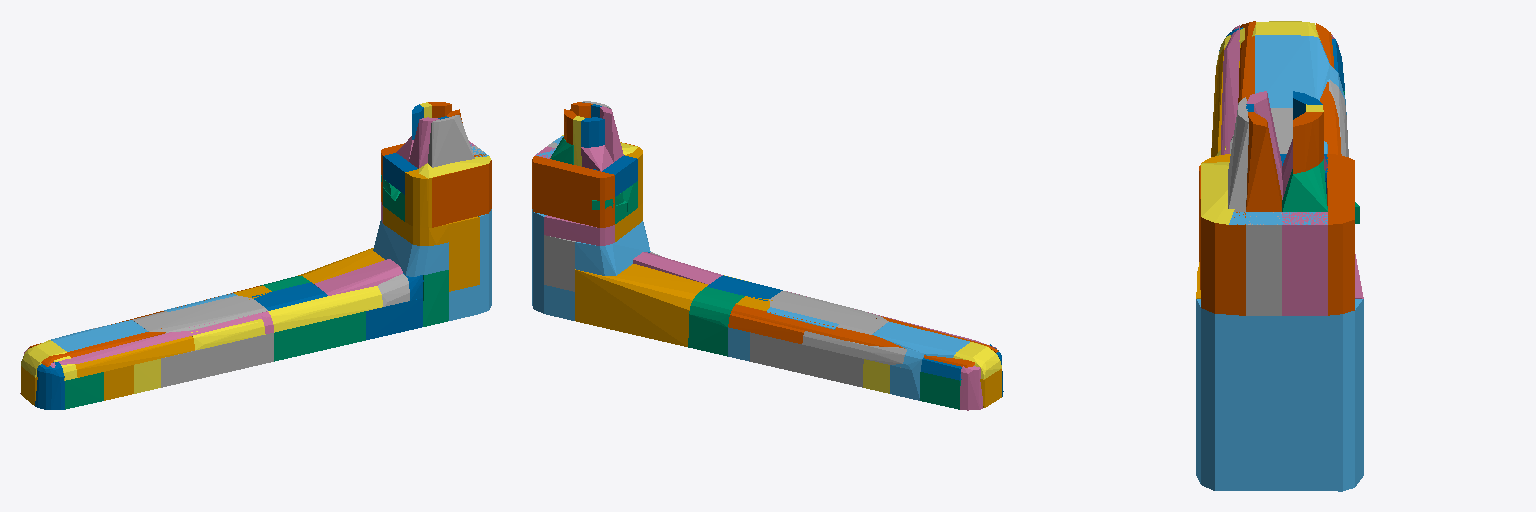
--- Render facts (derived) ---
The picture shows the robot from 3 angles, left to right: view 1: azimuth 30°, elevation 25°; view 2: azimuth 150°, elevation 25°; view 3: azimuth 270°, elevation 25°; orthographic projection.
Robot: root — 64 links, 63 joints (63 fixed); root link link_handle~handle9_convex_piece_0; default pose: all joints at 0.
Links seen in each view (by area): view 1: link_handle~handle9_convex_piece_63, link_handle~handle9_convex_piece_21, link_handle~handle9_convex_piece_58, link_handle~handle9_convex_piece_35, link_handle~handle9_convex_piece_47, link_handle~handle9_convex_piece_49, link_handle~handle9_convex_piece_8, link_handle~handle9_convex_piece_55, link_handle~handle9_convex_piece_48, link_handle~handle9_convex_piece_44, link_handle~handle9_convex_piece_46, link_handle~handle9_convex_piece_38 (+19 smaller); view 2: link_handle~handle9_convex_piece_56, link_handle~handle9_convex_piece_45, link_handle~handle9_convex_piece_63, link_handle~handle9_convex_piece_34, link_handle~handle9_convex_piece_49, link_handle~handle9_convex_piece_47, link_handle~handle9_convex_piece_61, link_handle~handle9_convex_piece_41, link_handle~handle9_convex_piece_7, link_handle~handle9_convex_piece_22, link_handle~handle9_convex_piece_57, link_handle~handle9_convex_piece_25 (+17 smaller); view 3: link_handle~handle9_convex_piece_25, link_handle~handle9_convex_piece_6, link_handle~handle9_convex_piece_41, link_handle~handle9_convex_piece_21, link_handle~handle9_convex_piece_45, link_handle~handle9_convex_piece_15, link_handle~handle9_convex_piece_53, link_handle~handle9_convex_piece_55, link_handle~handle9_convex_piece_26, link_handle~handle9_convex_piece_29, link_handle~handle9_convex_piece_38, link_handle~handle9_convex_piece_43 (+7 smaller).
Boxes of the visible links, bbox=[...] form: link_handle~handle9_convex_piece_63: bbox=[161, 333, 273, 387]; link_handle~handle9_convex_piece_21: bbox=[432, 154, 491, 227]; link_handle~handle9_convex_piece_58: bbox=[274, 311, 365, 361]; link_handle~handle9_convex_piece_35: bbox=[268, 286, 382, 332]; link_handle~handle9_convex_piece_47: bbox=[134, 295, 267, 333]; link_handle~handle9_convex_piece_49: bbox=[373, 220, 448, 276]; link_handle~handle9_convex_piece_8: bbox=[449, 216, 479, 291]; link_handle~handle9_convex_piece_55: bbox=[428, 115, 474, 167]; link_handle~handle9_convex_piece_48: bbox=[75, 336, 194, 377]; link_handle~handle9_convex_piece_44: bbox=[366, 298, 422, 339]; link_handle~handle9_convex_piece_46: bbox=[314, 259, 402, 295]; link_handle~handle9_convex_piece_38: bbox=[50, 313, 261, 367]; link_handle~handle9_convex_piece_56: bbox=[575, 264, 707, 346]; link_handle~handle9_convex_piece_45: bbox=[532, 156, 614, 227]; link_handle~handle9_convex_piece_63: bbox=[750, 332, 863, 387]; link_handle~handle9_convex_piece_34: bbox=[688, 287, 744, 356]; link_handle~handle9_convex_piece_49: bbox=[575, 221, 650, 275]; link_handle~handle9_convex_piece_47: bbox=[769, 291, 888, 332]; link_handle~handle9_convex_piece_61: bbox=[731, 304, 974, 367]; link_handle~handle9_convex_piece_41: bbox=[872, 322, 969, 357]; link_handle~handle9_convex_piece_7: bbox=[544, 235, 575, 291]; link_handle~handle9_convex_piece_22: bbox=[544, 215, 614, 245]; link_handle~handle9_convex_piece_57: bbox=[890, 348, 924, 400]; link_handle~handle9_convex_piece_25: bbox=[532, 209, 546, 313]; link_handle~handle9_convex_piece_25: bbox=[1196, 299, 1363, 491]; link_handle~handle9_convex_piece_6: bbox=[1282, 212, 1327, 315]; link_handle~handle9_convex_piece_41: bbox=[1255, 35, 1329, 107]; link_handle~handle9_convex_piece_21: bbox=[1199, 166, 1245, 315]; link_handle~handle9_convex_piece_45: bbox=[1327, 154, 1354, 315]; link_handle~handle9_convex_piece_15: bbox=[1246, 212, 1281, 315]; link_handle~handle9_convex_piece_53: bbox=[1246, 112, 1281, 211]; link_handle~handle9_convex_piece_55: bbox=[1228, 97, 1248, 211]; link_handle~handle9_convex_piece_26: bbox=[1282, 159, 1327, 211]; link_handle~handle9_convex_piece_29: bbox=[1293, 112, 1323, 173]; link_handle~handle9_convex_piece_38: bbox=[1221, 25, 1239, 154]; link_handle~handle9_convex_piece_43: bbox=[1201, 162, 1234, 224].
Bounding box of the posed robot: 0.1277 × 0.0227 × 0.052 m (x, y, z).
64 mesh visuals loaded from 64 distinct referenced files (64 OBJ).

robot.urdf — root:
<robot name="root">
  <link name="link_handle~handle9_convex_piece_0">
    <inertial>
      <origin xyz="0 0 0" rpy="0 0 0"/>
      <mass value="9.66E-04"/>
      <inertia ixx="1.10E-07" ixy="-2.01E-07" ixz="-5.53E-07" iyy="3.87E-06" iyz="-3.13E-08" izz="3.80E-06"/>
    </inertial>
    <visual>
      <origin xyz="0 0 0" rpy="0 0 0"/>
      <geometry>
        <mesh filename="handle~handle9_convex_piece_0.obj" scale="1.0000E+00 1.0000E+00 1.0000E+00"/>
      </geometry>
      <material name=""/>
    </visual>
    <collision>
      <origin xyz="0 0 0" rpy="0 0 0"/>
      <geometry>
        <mesh filename="handle~handle9_convex_piece_0.obj" scale="1.0000E+00 1.0000E+00 1.0000E+00"/>
      </geometry>
    </collision>
  </link>
  <link name="link_handle~handle9_convex_piece_1">
    <inertial>
      <origin xyz="0 0 0" rpy="0 0 0"/>
      <mass value="5.49E-04"/>
      <inertia ixx="7.18E-08" ixy="4.76E-08" ixz="-7.96E-08" iyy="1.89E-07" iyz="2.88E-08" izz="1.57E-07"/>
    </inertial>
    <visual>
      <origin xyz="0 0 0" rpy="0 0 0"/>
      <geometry>
        <mesh filename="handle~handle9_convex_piece_1.obj" scale="1.0000E+00 1.0000E+00 1.0000E+00"/>
      </geometry>
      <material name=""/>
    </visual>
    <collision>
      <origin xyz="0 0 0" rpy="0 0 0"/>
      <geometry>
        <mesh filename="handle~handle9_convex_piece_1.obj" scale="1.0000E+00 1.0000E+00 1.0000E+00"/>
      </geometry>
    </collision>
  </link>
  <joint name="link_handle~handle9_convex_piece_1_joint" type="fixed">
    <origin xyz="0 0 0" rpy="0 0 0"/>
    <parent link="link_handle~handle9_convex_piece_0"/>
    <child link="link_handle~handle9_convex_piece_1"/>
  </joint>
  <link name="link_handle~handle9_convex_piece_2">
    <inertial>
      <origin xyz="0 0 0" rpy="0 0 0"/>
      <mass value="1.30E-03"/>
      <inertia ixx="1.38E-07" ixy="1.82E-07" ixz="2.47E-07" iyy="1.01E-06" iyz="-4.94E-08" izz="9.71E-07"/>
    </inertial>
    <visual>
      <origin xyz="0 0 0" rpy="0 0 0"/>
      <geometry>
        <mesh filename="handle~handle9_convex_piece_2.obj" scale="1.0000E+00 1.0000E+00 1.0000E+00"/>
      </geometry>
      <material name=""/>
    </visual>
    <collision>
      <origin xyz="0 0 0" rpy="0 0 0"/>
      <geometry>
        <mesh filename="handle~handle9_convex_piece_2.obj" scale="1.0000E+00 1.0000E+00 1.0000E+00"/>
      </geometry>
    </collision>
  </link>
  <joint name="link_handle~handle9_convex_piece_2_joint" type="fixed">
    <origin xyz="0 0 0" rpy="0 0 0"/>
    <parent link="link_handle~handle9_convex_piece_1"/>
    <child link="link_handle~handle9_convex_piece_2"/>
  </joint>
  <link name="link_handle~handle9_convex_piece_3">
    <inertial>
      <origin xyz="0 0 0" rpy="0 0 0"/>
      <mass value="1.32E-03"/>
      <inertia ixx="1.67E-07" ixy="3.59E-09" ixz="-6.91E-07" iyy="4.07E-06" iyz="3.07E-10" izz="3.97E-06"/>
    </inertial>
    <visual>
      <origin xyz="0 0 0" rpy="0 0 0"/>
      <geometry>
        <mesh filename="handle~handle9_convex_piece_3.obj" scale="1.0000E+00 1.0000E+00 1.0000E+00"/>
      </geometry>
      <material name=""/>
    </visual>
    <collision>
      <origin xyz="0 0 0" rpy="0 0 0"/>
      <geometry>
        <mesh filename="handle~handle9_convex_piece_3.obj" scale="1.0000E+00 1.0000E+00 1.0000E+00"/>
      </geometry>
    </collision>
  </link>
  <joint name="link_handle~handle9_convex_piece_3_joint" type="fixed">
    <origin xyz="0 0 0" rpy="0 0 0"/>
    <parent link="link_handle~handle9_convex_piece_2"/>
    <child link="link_handle~handle9_convex_piece_3"/>
  </joint>
  <link name="link_handle~handle9_convex_piece_4">
    <inertial>
      <origin xyz="0 0 0" rpy="0 0 0"/>
      <mass value="1.26E-04"/>
      <inertia ixx="9.51E-09" ixy="2.07E-08" ixz="8.66E-09" iyy="5.88E-08" iyz="-3.23E-09" izz="6.50E-08"/>
    </inertial>
    <visual>
      <origin xyz="0 0 0" rpy="0 0 0"/>
      <geometry>
        <mesh filename="handle~handle9_convex_piece_4.obj" scale="1.0000E+00 1.0000E+00 1.0000E+00"/>
      </geometry>
      <material name=""/>
    </visual>
    <collision>
      <origin xyz="0 0 0" rpy="0 0 0"/>
      <geometry>
        <mesh filename="handle~handle9_convex_piece_4.obj" scale="1.0000E+00 1.0000E+00 1.0000E+00"/>
      </geometry>
    </collision>
  </link>
  <joint name="link_handle~handle9_convex_piece_4_joint" type="fixed">
    <origin xyz="0 0 0" rpy="0 0 0"/>
    <parent link="link_handle~handle9_convex_piece_3"/>
    <child link="link_handle~handle9_convex_piece_4"/>
  </joint>
  <link name="link_handle~handle9_convex_piece_5">
    <inertial>
      <origin xyz="0 0 0" rpy="0 0 0"/>
      <mass value="6.37E-05"/>
      <inertia ixx="4.13E-09" ixy="-8.38E-09" ixz="-1.26E-08" iyy="7.22E-08" iyz="-1.53E-09" izz="7.01E-08"/>
    </inertial>
    <visual>
      <origin xyz="0 0 0" rpy="0 0 0"/>
      <geometry>
        <mesh filename="handle~handle9_convex_piece_5.obj" scale="1.0000E+00 1.0000E+00 1.0000E+00"/>
      </geometry>
      <material name=""/>
    </visual>
    <collision>
      <origin xyz="0 0 0" rpy="0 0 0"/>
      <geometry>
        <mesh filename="handle~handle9_convex_piece_5.obj" scale="1.0000E+00 1.0000E+00 1.0000E+00"/>
      </geometry>
    </collision>
  </link>
  <joint name="link_handle~handle9_convex_piece_5_joint" type="fixed">
    <origin xyz="0 0 0" rpy="0 0 0"/>
    <parent link="link_handle~handle9_convex_piece_4"/>
    <child link="link_handle~handle9_convex_piece_5"/>
  </joint>
  <link name="link_handle~handle9_convex_piece_6">
    <inertial>
      <origin xyz="0 0 0" rpy="0 0 0"/>
      <mass value="4.26E-04"/>
      <inertia ixx="1.64E-07" ixy="-5.78E-08" ixz="-3.39E-07" iyy="9.14E-07" iyz="-2.60E-08" izz="7.62E-07"/>
    </inertial>
    <visual>
      <origin xyz="0 0 0" rpy="0 0 0"/>
      <geometry>
        <mesh filename="handle~handle9_convex_piece_6.obj" scale="1.0000E+00 1.0000E+00 1.0000E+00"/>
      </geometry>
      <material name=""/>
    </visual>
    <collision>
      <origin xyz="0 0 0" rpy="0 0 0"/>
      <geometry>
        <mesh filename="handle~handle9_convex_piece_6.obj" scale="1.0000E+00 1.0000E+00 1.0000E+00"/>
      </geometry>
    </collision>
  </link>
  <joint name="link_handle~handle9_convex_piece_6_joint" type="fixed">
    <origin xyz="0 0 0" rpy="0 0 0"/>
    <parent link="link_handle~handle9_convex_piece_5"/>
    <child link="link_handle~handle9_convex_piece_6"/>
  </joint>
  <link name="link_handle~handle9_convex_piece_7">
    <inertial>
      <origin xyz="0 0 0" rpy="0 0 0"/>
      <mass value="7.29E-04"/>
      <inertia ixx="6.05E-08" ixy="-2.02E-07" ixz="-1.78E-08" iyy="8.79E-07" iyz="-3.95E-09" izz="9.18E-07"/>
    </inertial>
    <visual>
      <origin xyz="0 0 0" rpy="0 0 0"/>
      <geometry>
        <mesh filename="handle~handle9_convex_piece_7.obj" scale="1.0000E+00 1.0000E+00 1.0000E+00"/>
      </geometry>
      <material name=""/>
    </visual>
    <collision>
      <origin xyz="0 0 0" rpy="0 0 0"/>
      <geometry>
        <mesh filename="handle~handle9_convex_piece_7.obj" scale="1.0000E+00 1.0000E+00 1.0000E+00"/>
      </geometry>
    </collision>
  </link>
  <joint name="link_handle~handle9_convex_piece_7_joint" type="fixed">
    <origin xyz="0 0 0" rpy="0 0 0"/>
    <parent link="link_handle~handle9_convex_piece_6"/>
    <child link="link_handle~handle9_convex_piece_7"/>
  </joint>
  <link name="link_handle~handle9_convex_piece_8">
    <inertial>
      <origin xyz="0 0 0" rpy="0 0 0"/>
      <mass value="1.00E-03"/>
      <inertia ixx="1.05E-07" ixy="2.76E-07" ixz="-1.09E-07" iyy="1.23E-06" iyz="2.51E-08" izz="1.26E-06"/>
    </inertial>
    <visual>
      <origin xyz="0 0 0" rpy="0 0 0"/>
      <geometry>
        <mesh filename="handle~handle9_convex_piece_8.obj" scale="1.0000E+00 1.0000E+00 1.0000E+00"/>
      </geometry>
      <material name=""/>
    </visual>
    <collision>
      <origin xyz="0 0 0" rpy="0 0 0"/>
      <geometry>
        <mesh filename="handle~handle9_convex_piece_8.obj" scale="1.0000E+00 1.0000E+00 1.0000E+00"/>
      </geometry>
    </collision>
  </link>
  <joint name="link_handle~handle9_convex_piece_8_joint" type="fixed">
    <origin xyz="0 0 0" rpy="0 0 0"/>
    <parent link="link_handle~handle9_convex_piece_7"/>
    <child link="link_handle~handle9_convex_piece_8"/>
  </joint>
  <link name="link_handle~handle9_convex_piece_9">
    <inertial>
      <origin xyz="0 0 0" rpy="0 0 0"/>
      <mass value="0.00E+00"/>
      <inertia ixx="5.80E-23" ixy="-0.00E+00" ixz="-1.16E-22" iyy="5.80E-23" iyz="-0.00E+00" izz="0.00E+00"/>
    </inertial>
    <visual>
      <origin xyz="0 0 0" rpy="0 0 0"/>
      <geometry>
        <mesh filename="handle~handle9_convex_piece_9.obj" scale="1.0000E+00 1.0000E+00 1.0000E+00"/>
      </geometry>
      <material name=""/>
    </visual>
    <collision>
      <origin xyz="0 0 0" rpy="0 0 0"/>
      <geometry>
        <mesh filename="handle~handle9_convex_piece_9.obj" scale="1.0000E+00 1.0000E+00 1.0000E+00"/>
      </geometry>
    </collision>
  </link>
  <joint name="link_handle~handle9_convex_piece_9_joint" type="fixed">
    <origin xyz="0 0 0" rpy="0 0 0"/>
    <parent link="link_handle~handle9_convex_piece_8"/>
    <child link="link_handle~handle9_convex_piece_9"/>
  </joint>
  <link name="link_handle~handle9_convex_piece_10">
    <inertial>
      <origin xyz="0 0 0" rpy="0 0 0"/>
      <mass value="7.95E-05"/>
      <inertia ixx="2.95E-08" ixy="-1.14E-08" ixz="-3.44E-08" iyy="7.14E-08" iyz="-8.72E-09" izz="4.84E-08"/>
    </inertial>
    <visual>
      <origin xyz="0 0 0" rpy="0 0 0"/>
      <geometry>
        <mesh filename="handle~handle9_convex_piece_10.obj" scale="1.0000E+00 1.0000E+00 1.0000E+00"/>
      </geometry>
      <material name=""/>
    </visual>
    <collision>
      <origin xyz="0 0 0" rpy="0 0 0"/>
      <geometry>
        <mesh filename="handle~handle9_convex_piece_10.obj" scale="1.0000E+00 1.0000E+00 1.0000E+00"/>
      </geometry>
    </collision>
  </link>
  <joint name="link_handle~handle9_convex_piece_10_joint" type="fixed">
    <origin xyz="0 0 0" rpy="0 0 0"/>
    <parent link="link_handle~handle9_convex_piece_9"/>
    <child link="link_handle~handle9_convex_piece_10"/>
  </joint>
  <link name="link_handle~handle9_convex_piece_11">
    <inertial>
      <origin xyz="0 0 0" rpy="0 0 0"/>
      <mass value="1.10E-04"/>
      <inertia ixx="8.50E-08" ixy="-1.58E-08" ixz="-9.57E-08" iyy="2.02E-07" iyz="-1.29E-08" izz="1.21E-07"/>
    </inertial>
    <visual>
      <origin xyz="0 0 0" rpy="0 0 0"/>
      <geometry>
        <mesh filename="handle~handle9_convex_piece_11.obj" scale="1.0000E+00 1.0000E+00 1.0000E+00"/>
      </geometry>
      <material name=""/>
    </visual>
    <collision>
      <origin xyz="0 0 0" rpy="0 0 0"/>
      <geometry>
        <mesh filename="handle~handle9_convex_piece_11.obj" scale="1.0000E+00 1.0000E+00 1.0000E+00"/>
      </geometry>
    </collision>
  </link>
  <joint name="link_handle~handle9_convex_piece_11_joint" type="fixed">
    <origin xyz="0 0 0" rpy="0 0 0"/>
    <parent link="link_handle~handle9_convex_piece_10"/>
    <child link="link_handle~handle9_convex_piece_11"/>
  </joint>
  <link name="link_handle~handle9_convex_piece_12">
    <inertial>
      <origin xyz="0 0 0" rpy="0 0 0"/>
      <mass value="5.61E-05"/>
      <inertia ixx="4.03E-09" ixy="2.89E-08" ixz="-1.80E-08" iyy="2.95E-07" iyz="1.80E-09" izz="2.97E-07"/>
    </inertial>
    <visual>
      <origin xyz="0 0 0" rpy="0 0 0"/>
      <geometry>
        <mesh filename="handle~handle9_convex_piece_12.obj" scale="1.0000E+00 1.0000E+00 1.0000E+00"/>
      </geometry>
      <material name=""/>
    </visual>
    <collision>
      <origin xyz="0 0 0" rpy="0 0 0"/>
      <geometry>
        <mesh filename="handle~handle9_convex_piece_12.obj" scale="1.0000E+00 1.0000E+00 1.0000E+00"/>
      </geometry>
    </collision>
  </link>
  <joint name="link_handle~handle9_convex_piece_12_joint" type="fixed">
    <origin xyz="0 0 0" rpy="0 0 0"/>
    <parent link="link_handle~handle9_convex_piece_11"/>
    <child link="link_handle~handle9_convex_piece_12"/>
  </joint>
  <link name="link_handle~handle9_convex_piece_13">
    <inertial>
      <origin xyz="0 0 0" rpy="0 0 0"/>
      <mass value="1.04E-04"/>
      <inertia ixx="9.45E-09" ixy="1.99E-08" ixz="-1.05E-08" iyy="6.02E-08" iyz="3.88E-09" izz="6.54E-08"/>
    </inertial>
    <visual>
      <origin xyz="0 0 0" rpy="0 0 0"/>
      <geometry>
        <mesh filename="handle~handle9_convex_piece_13.obj" scale="1.0000E+00 1.0000E+00 1.0000E+00"/>
      </geometry>
      <material name=""/>
    </visual>
    <collision>
      <origin xyz="0 0 0" rpy="0 0 0"/>
      <geometry>
        <mesh filename="handle~handle9_convex_piece_13.obj" scale="1.0000E+00 1.0000E+00 1.0000E+00"/>
      </geometry>
    </collision>
  </link>
  <joint name="link_handle~handle9_convex_piece_13_joint" type="fixed">
    <origin xyz="0 0 0" rpy="0 0 0"/>
    <parent link="link_handle~handle9_convex_piece_12"/>
    <child link="link_handle~handle9_convex_piece_13"/>
  </joint>
  <link name="link_handle~handle9_convex_piece_14">
    <inertial>
      <origin xyz="0 0 0" rpy="0 0 0"/>
      <mass value="1.01E-04"/>
      <inertia ixx="1.33E-08" ixy="5.02E-08" ixz="-7.29E-08" iyy="6.50E-07" iyz="5.75E-09" izz="6.45E-07"/>
    </inertial>
    <visual>
      <origin xyz="0 0 0" rpy="0 0 0"/>
      <geometry>
        <mesh filename="handle~handle9_convex_piece_14.obj" scale="1.0000E+00 1.0000E+00 1.0000E+00"/>
      </geometry>
      <material name=""/>
    </visual>
    <collision>
      <origin xyz="0 0 0" rpy="0 0 0"/>
      <geometry>
        <mesh filename="handle~handle9_convex_piece_14.obj" scale="1.0000E+00 1.0000E+00 1.0000E+00"/>
      </geometry>
    </collision>
  </link>
  <joint name="link_handle~handle9_convex_piece_14_joint" type="fixed">
    <origin xyz="0 0 0" rpy="0 0 0"/>
    <parent link="link_handle~handle9_convex_piece_13"/>
    <child link="link_handle~handle9_convex_piece_14"/>
  </joint>
  <link name="link_handle~handle9_convex_piece_15">
    <inertial>
      <origin xyz="0 0 0" rpy="0 0 0"/>
      <mass value="6.59E-04"/>
      <inertia ixx="2.51E-07" ixy="5.80E-08" ixz="-4.97E-07" iyy="1.30E-06" iyz="2.77E-08" izz="1.06E-06"/>
    </inertial>
    <visual>
      <origin xyz="0 0 0" rpy="0 0 0"/>
      <geometry>
        <mesh filename="handle~handle9_convex_piece_15.obj" scale="1.0000E+00 1.0000E+00 1.0000E+00"/>
      </geometry>
      <material name=""/>
    </visual>
    <collision>
      <origin xyz="0 0 0" rpy="0 0 0"/>
      <geometry>
        <mesh filename="handle~handle9_convex_piece_15.obj" scale="1.0000E+00 1.0000E+00 1.0000E+00"/>
      </geometry>
    </collision>
  </link>
  <joint name="link_handle~handle9_convex_piece_15_joint" type="fixed">
    <origin xyz="0 0 0" rpy="0 0 0"/>
    <parent link="link_handle~handle9_convex_piece_14"/>
    <child link="link_handle~handle9_convex_piece_15"/>
  </joint>
  <link name="link_handle~handle9_convex_piece_16">
    <inertial>
      <origin xyz="0 0 0" rpy="0 0 0"/>
      <mass value="3.86E-04"/>
      <inertia ixx="4.54E-08" ixy="2.09E-08" ixz="-3.15E-07" iyy="2.54E-06" iyz="2.73E-09" izz="2.50E-06"/>
    </inertial>
    <visual>
      <origin xyz="0 0 0" rpy="0 0 0"/>
      <geometry>
        <mesh filename="handle~handle9_convex_piece_16.obj" scale="1.0000E+00 1.0000E+00 1.0000E+00"/>
      </geometry>
      <material name=""/>
    </visual>
    <collision>
      <origin xyz="0 0 0" rpy="0 0 0"/>
      <geometry>
        <mesh filename="handle~handle9_convex_piece_16.obj" scale="1.0000E+00 1.0000E+00 1.0000E+00"/>
      </geometry>
    </collision>
  </link>
  <joint name="link_handle~handle9_convex_piece_16_joint" type="fixed">
    <origin xyz="0 0 0" rpy="0 0 0"/>
    <parent link="link_handle~handle9_convex_piece_15"/>
    <child link="link_handle~handle9_convex_piece_16"/>
  </joint>
  <link name="link_handle~handle9_convex_piece_17">
    <inertial>
      <origin xyz="0 0 0" rpy="0 0 0"/>
      <mass value="1.62E-03"/>
      <inertia ixx="2.50E-07" ixy="-6.63E-10" ixz="5.82E-07" iyy="2.15E-06" iyz="1.89E-10" izz="2.04E-06"/>
    </inertial>
    <visual>
      <origin xyz="0 0 0" rpy="0 0 0"/>
      <geometry>
        <mesh filename="handle~handle9_convex_piece_17.obj" scale="1.0000E+00 1.0000E+00 1.0000E+00"/>
      </geometry>
      <material name=""/>
    </visual>
    <collision>
      <origin xyz="0 0 0" rpy="0 0 0"/>
      <geometry>
        <mesh filename="handle~handle9_convex_piece_17.obj" scale="1.0000E+00 1.0000E+00 1.0000E+00"/>
      </geometry>
    </collision>
  </link>
  <joint name="link_handle~handle9_convex_piece_17_joint" type="fixed">
    <origin xyz="0 0 0" rpy="0 0 0"/>
    <parent link="link_handle~handle9_convex_piece_16"/>
    <child link="link_handle~handle9_convex_piece_17"/>
  </joint>
  <link name="link_handle~handle9_convex_piece_18">
    <inertial>
      <origin xyz="0 0 0" rpy="0 0 0"/>
      <mass value="1.58E-03"/>
      <inertia ixx="2.16E-07" ixy="1.84E-09" ixz="-1.18E-06" iyy="8.41E-06" iyz="1.84E-10" izz="8.28E-06"/>
    </inertial>
    <visual>
      <origin xyz="0 0 0" rpy="0 0 0"/>
      <geometry>
        <mesh filename="handle~handle9_convex_piece_18.obj" scale="1.0000E+00 1.0000E+00 1.0000E+00"/>
      </geometry>
      <material name=""/>
    </visual>
    <collision>
      <origin xyz="0 0 0" rpy="0 0 0"/>
      <geometry>
        <mesh filename="handle~handle9_convex_piece_18.obj" scale="1.0000E+00 1.0000E+00 1.0000E+00"/>
      </geometry>
    </collision>
  </link>
  <joint name="link_handle~handle9_convex_piece_18_joint" type="fixed">
    <origin xyz="0 0 0" rpy="0 0 0"/>
    <parent link="link_handle~handle9_convex_piece_17"/>
    <child link="link_handle~handle9_convex_piece_18"/>
  </joint>
  <link name="link_handle~handle9_convex_piece_19">
    <inertial>
      <origin xyz="0 0 0" rpy="0 0 0"/>
      <mass value="3.68E-04"/>
      <inertia ixx="1.62E-08" ixy="-6.77E-12" ixz="-4.61E-08" iyy="5.04E-07" iyz="-6.37E-13" izz="4.93E-07"/>
    </inertial>
    <visual>
      <origin xyz="0 0 0" rpy="0 0 0"/>
      <geometry>
        <mesh filename="handle~handle9_convex_piece_19.obj" scale="1.0000E+00 1.0000E+00 1.0000E+00"/>
      </geometry>
      <material name=""/>
    </visual>
    <collision>
      <origin xyz="0 0 0" rpy="0 0 0"/>
      <geometry>
        <mesh filename="handle~handle9_convex_piece_19.obj" scale="1.0000E+00 1.0000E+00 1.0000E+00"/>
      </geometry>
    </collision>
  </link>
  <joint name="link_handle~handle9_convex_piece_19_joint" type="fixed">
    <origin xyz="0 0 0" rpy="0 0 0"/>
    <parent link="link_handle~handle9_convex_piece_18"/>
    <child link="link_handle~handle9_convex_piece_19"/>
  </joint>
  <link name="link_handle~handle9_convex_piece_20">
    <inertial>
      <origin xyz="0 0 0" rpy="0 0 0"/>
      <mass value="1.97E-04"/>
      <inertia ixx="2.42E-08" ixy="-8.39E-08" ixz="-1.43E-07" iyy="1.27E-06" iyz="-9.59E-09" izz="1.26E-06"/>
    </inertial>
    <visual>
      <origin xyz="0 0 0" rpy="0 0 0"/>
      <geometry>
        <mesh filename="handle~handle9_convex_piece_20.obj" scale="1.0000E+00 1.0000E+00 1.0000E+00"/>
      </geometry>
      <material name=""/>
    </visual>
    <collision>
      <origin xyz="0 0 0" rpy="0 0 0"/>
      <geometry>
        <mesh filename="handle~handle9_convex_piece_20.obj" scale="1.0000E+00 1.0000E+00 1.0000E+00"/>
      </geometry>
    </collision>
  </link>
  <joint name="link_handle~handle9_convex_piece_20_joint" type="fixed">
    <origin xyz="0 0 0" rpy="0 0 0"/>
    <parent link="link_handle~handle9_convex_piece_19"/>
    <child link="link_handle~handle9_convex_piece_20"/>
  </joint>
  <link name="link_handle~handle9_convex_piece_21">
    <inertial>
      <origin xyz="0 0 0" rpy="0 0 0"/>
      <mass value="1.69E-03"/>
      <inertia ixx="7.28E-07" ixy="4.37E-07" ixz="-1.09E-06" iyy="2.65E-06" iyz="2.41E-07" izz="2.13E-06"/>
    </inertial>
    <visual>
      <origin xyz="0 0 0" rpy="0 0 0"/>
      <geometry>
        <mesh filename="handle~handle9_convex_piece_21.obj" scale="1.0000E+00 1.0000E+00 1.0000E+00"/>
      </geometry>
      <material name=""/>
    </visual>
    <collision>
      <origin xyz="0 0 0" rpy="0 0 0"/>
      <geometry>
        <mesh filename="handle~handle9_convex_piece_21.obj" scale="1.0000E+00 1.0000E+00 1.0000E+00"/>
      </geometry>
    </collision>
  </link>
  <joint name="link_handle~handle9_convex_piece_21_joint" type="fixed">
    <origin xyz="0 0 0" rpy="0 0 0"/>
    <parent link="link_handle~handle9_convex_piece_20"/>
    <child link="link_handle~handle9_convex_piece_21"/>
  </joint>
  <link name="link_handle~handle9_convex_piece_22">
    <inertial>
      <origin xyz="0 0 0" rpy="0 0 0"/>
      <mass value="4.37E-04"/>
      <inertia ixx="7.14E-08" ixy="-1.10E-07" ixz="-1.32E-07" iyy="4.75E-07" iyz="-3.41E-08" izz="4.63E-07"/>
    </inertial>
    <visual>
      <origin xyz="0 0 0" rpy="0 0 0"/>
      <geometry>
        <mesh filename="handle~handle9_convex_piece_22.obj" scale="1.0000E+00 1.0000E+00 1.0000E+00"/>
      </geometry>
      <material name=""/>
    </visual>
    <collision>
      <origin xyz="0 0 0" rpy="0 0 0"/>
      <geometry>
        <mesh filename="handle~handle9_convex_piece_22.obj" scale="1.0000E+00 1.0000E+00 1.0000E+00"/>
      </geometry>
    </collision>
  </link>
  <joint name="link_handle~handle9_convex_piece_22_joint" type="fixed">
    <origin xyz="0 0 0" rpy="0 0 0"/>
    <parent link="link_handle~handle9_convex_piece_21"/>
    <child link="link_handle~handle9_convex_piece_22"/>
  </joint>
  <link name="link_handle~handle9_convex_piece_23">
    <inertial>
      <origin xyz="0 0 0" rpy="0 0 0"/>
      <mass value="5.21E-05"/>
      <inertia ixx="4.34E-09" ixy="2.30E-08" ixz="-1.31E-08" iyy="1.66E-07" iyz="1.86E-09" izz="1.68E-07"/>
    </inertial>
    <visual>
      <origin xyz="0 0 0" rpy="0 0 0"/>
      <geometry>
        <mesh filename="handle~handle9_convex_piece_23.obj" scale="1.0000E+00 1.0000E+00 1.0000E+00"/>
      </geometry>
      <material name=""/>
    </visual>
    <collision>
      <origin xyz="0 0 0" rpy="0 0 0"/>
      <geometry>
        <mesh filename="handle~handle9_convex_piece_23.obj" scale="1.0000E+00 1.0000E+00 1.0000E+00"/>
      </geometry>
    </collision>
  </link>
  <joint name="link_handle~handle9_convex_piece_23_joint" type="fixed">
    <origin xyz="0 0 0" rpy="0 0 0"/>
    <parent link="link_handle~handle9_convex_piece_22"/>
    <child link="link_handle~handle9_convex_piece_23"/>
  </joint>
  <link name="link_handle~handle9_convex_piece_24">
    <inertial>
      <origin xyz="0 0 0" rpy="0 0 0"/>
      <mass value="2.36E-04"/>
      <inertia ixx="1.08E-07" ixy="4.22E-08" ixz="-1.10E-07" iyy="2.28E-07" iyz="3.44E-08" izz="1.47E-07"/>
    </inertial>
    <visual>
      <origin xyz="0 0 0" rpy="0 0 0"/>
      <geometry>
        <mesh filename="handle~handle9_convex_piece_24.obj" scale="1.0000E+00 1.0000E+00 1.0000E+00"/>
      </geometry>
      <material name=""/>
    </visual>
    <collision>
      <origin xyz="0 0 0" rpy="0 0 0"/>
      <geometry>
        <mesh filename="handle~handle9_convex_piece_24.obj" scale="1.0000E+00 1.0000E+00 1.0000E+00"/>
      </geometry>
    </collision>
  </link>
  <joint name="link_handle~handle9_convex_piece_24_joint" type="fixed">
    <origin xyz="0 0 0" rpy="0 0 0"/>
    <parent link="link_handle~handle9_convex_piece_23"/>
    <child link="link_handle~handle9_convex_piece_24"/>
  </joint>
  <link name="link_handle~handle9_convex_piece_25">
    <inertial>
      <origin xyz="0 0 0" rpy="0 0 0"/>
      <mass value="2.85E-03"/>
      <inertia ixx="2.75E-07" ixy="-2.97E-10" ixz="1.26E-07" iyy="5.06E-06" iyz="-3.70E-12" izz="5.00E-06"/>
    </inertial>
    <visual>
      <origin xyz="0 0 0" rpy="0 0 0"/>
      <geometry>
        <mesh filename="handle~handle9_convex_piece_25.obj" scale="1.0000E+00 1.0000E+00 1.0000E+00"/>
      </geometry>
      <material name=""/>
    </visual>
    <collision>
      <origin xyz="0 0 0" rpy="0 0 0"/>
      <geometry>
        <mesh filename="handle~handle9_convex_piece_25.obj" scale="1.0000E+00 1.0000E+00 1.0000E+00"/>
      </geometry>
    </collision>
  </link>
  <joint name="link_handle~handle9_convex_piece_25_joint" type="fixed">
    <origin xyz="0 0 0" rpy="0 0 0"/>
    <parent link="link_handle~handle9_convex_piece_24"/>
    <child link="link_handle~handle9_convex_piece_25"/>
  </joint>
  <link name="link_handle~handle9_convex_piece_26">
    <inertial>
      <origin xyz="0 0 0" rpy="0 0 0"/>
      <mass value="5.97E-04"/>
      <inertia ixx="2.83E-07" ixy="-8.32E-08" ixz="-4.70E-07" iyy="1.13E-06" iyz="-4.53E-08" izz="8.68E-07"/>
    </inertial>
    <visual>
      <origin xyz="0 0 0" rpy="0 0 0"/>
      <geometry>
        <mesh filename="handle~handle9_convex_piece_26.obj" scale="1.0000E+00 1.0000E+00 1.0000E+00"/>
      </geometry>
      <material name=""/>
    </visual>
    <collision>
      <origin xyz="0 0 0" rpy="0 0 0"/>
      <geometry>
        <mesh filename="handle~handle9_convex_piece_26.obj" scale="1.0000E+00 1.0000E+00 1.0000E+00"/>
      </geometry>
    </collision>
  </link>
  <joint name="link_handle~handle9_convex_piece_26_joint" type="fixed">
    <origin xyz="0 0 0" rpy="0 0 0"/>
    <parent link="link_handle~handle9_convex_piece_25"/>
    <child link="link_handle~handle9_convex_piece_26"/>
  </joint>
  <link name="link_handle~handle9_convex_piece_27">
    <inertial>
      <origin xyz="0 0 0" rpy="0 0 0"/>
      <mass value="9.42E-05"/>
      <inertia ixx="8.76E-09" ixy="-2.44E-08" ixz="-1.29E-08" iyy="9.31E-08" iyz="-3.61E-09" izz="9.79E-08"/>
    </inertial>
    <visual>
      <origin xyz="0 0 0" rpy="0 0 0"/>
      <geometry>
        <mesh filename="handle~handle9_convex_piece_27.obj" scale="1.0000E+00 1.0000E+00 1.0000E+00"/>
      </geometry>
      <material name=""/>
    </visual>
    <collision>
      <origin xyz="0 0 0" rpy="0 0 0"/>
      <geometry>
        <mesh filename="handle~handle9_convex_piece_27.obj" scale="1.0000E+00 1.0000E+00 1.0000E+00"/>
      </geometry>
    </collision>
  </link>
  <joint name="link_handle~handle9_convex_piece_27_joint" type="fixed">
    <origin xyz="0 0 0" rpy="0 0 0"/>
    <parent link="link_handle~handle9_convex_piece_26"/>
    <child link="link_handle~handle9_convex_piece_27"/>
  </joint>
  <link name="link_handle~handle9_convex_piece_28">
    <inertial>
      <origin xyz="0 0 0" rpy="0 0 0"/>
      <mass value="7.24E-05"/>
      <inertia ixx="8.57E-08" ixy="-7.64E-09" ixz="-7.39E-08" iyy="1.49E-07" iyz="-8.68E-09" izz="6.56E-08"/>
    </inertial>
    <visual>
      <origin xyz="0 0 0" rpy="0 0 0"/>
      <geometry>
        <mesh filename="handle~handle9_convex_piece_28.obj" scale="1.0000E+00 1.0000E+00 1.0000E+00"/>
      </geometry>
      <material name=""/>
    </visual>
    <collision>
      <origin xyz="0 0 0" rpy="0 0 0"/>
      <geometry>
        <mesh filename="handle~handle9_convex_piece_28.obj" scale="1.0000E+00 1.0000E+00 1.0000E+00"/>
      </geometry>
    </collision>
  </link>
  <joint name="link_handle~handle9_convex_piece_28_joint" type="fixed">
    <origin xyz="0 0 0" rpy="0 0 0"/>
    <parent link="link_handle~handle9_convex_piece_27"/>
    <child link="link_handle~handle9_convex_piece_28"/>
  </joint>
  <link name="link_handle~handle9_convex_piece_29">
    <inertial>
      <origin xyz="0 0 0" rpy="0 0 0"/>
      <mass value="8.22E-05"/>
      <inertia ixx="9.76E-08" ixy="-1.06E-08" ixz="-1.02E-07" iyy="2.04E-07" iyz="-1.01E-08" izz="1.09E-07"/>
    </inertial>
    <visual>
      <origin xyz="0 0 0" rpy="0 0 0"/>
      <geometry>
        <mesh filename="handle~handle9_convex_piece_29.obj" scale="1.0000E+00 1.0000E+00 1.0000E+00"/>
      </geometry>
      <material name=""/>
    </visual>
    <collision>
      <origin xyz="0 0 0" rpy="0 0 0"/>
      <geometry>
        <mesh filename="handle~handle9_convex_piece_29.obj" scale="1.0000E+00 1.0000E+00 1.0000E+00"/>
      </geometry>
    </collision>
  </link>
  <joint name="link_handle~handle9_convex_piece_29_joint" type="fixed">
    <origin xyz="0 0 0" rpy="0 0 0"/>
    <parent link="link_handle~handle9_convex_piece_28"/>
    <child link="link_handle~handle9_convex_piece_29"/>
  </joint>
  <link name="link_handle~handle9_convex_piece_30">
    <inertial>
      <origin xyz="0 0 0" rpy="0 0 0"/>
      <mass value="2.30E-05"/>
      <inertia ixx="1.69E-09" ixy="-3.50E-09" ixz="-1.66E-09" iyy="9.55E-09" iyz="-6.53E-10" izz="1.06E-08"/>
    </inertial>
    <visual>
      <origin xyz="0 0 0" rpy="0 0 0"/>
      <geometry>
        <mesh filename="handle~handle9_convex_piece_30.obj" scale="1.0000E+00 1.0000E+00 1.0000E+00"/>
      </geometry>
      <material name=""/>
    </visual>
    <collision>
      <origin xyz="0 0 0" rpy="0 0 0"/>
      <geometry>
        <mesh filename="handle~handle9_convex_piece_30.obj" scale="1.0000E+00 1.0000E+00 1.0000E+00"/>
      </geometry>
    </collision>
  </link>
  <joint name="link_handle~handle9_convex_piece_30_joint" type="fixed">
    <origin xyz="0 0 0" rpy="0 0 0"/>
    <parent link="link_handle~handle9_convex_piece_29"/>
    <child link="link_handle~handle9_convex_piece_30"/>
  </joint>
  <link name="link_handle~handle9_convex_piece_31">
    <inertial>
      <origin xyz="0 0 0" rpy="0 0 0"/>
      <mass value="6.12E-05"/>
      <inertia ixx="5.95E-09" ixy="8.94E-09" ixz="3.44E-09" iyy="1.70E-08" iyz="-2.02E-09" izz="2.12E-08"/>
    </inertial>
    <visual>
      <origin xyz="0 0 0" rpy="0 0 0"/>
      <geometry>
        <mesh filename="handle~handle9_convex_piece_31.obj" scale="1.0000E+00 1.0000E+00 1.0000E+00"/>
      </geometry>
      <material name=""/>
    </visual>
    <collision>
      <origin xyz="0 0 0" rpy="0 0 0"/>
      <geometry>
        <mesh filename="handle~handle9_convex_piece_31.obj" scale="1.0000E+00 1.0000E+00 1.0000E+00"/>
      </geometry>
    </collision>
  </link>
  <joint name="link_handle~handle9_convex_piece_31_joint" type="fixed">
    <origin xyz="0 0 0" rpy="0 0 0"/>
    <parent link="link_handle~handle9_convex_piece_30"/>
    <child link="link_handle~handle9_convex_piece_31"/>
  </joint>
  <link name="link_handle~handle9_convex_piece_32">
    <inertial>
      <origin xyz="0 0 0" rpy="0 0 0"/>
      <mass value="7.07E-04"/>
      <inertia ixx="8.77E-08" ixy="4.74E-08" ixz="-1.80E-07" iyy="5.57E-07" iyz="1.71E-08" izz="5.09E-07"/>
    </inertial>
    <visual>
      <origin xyz="0 0 0" rpy="0 0 0"/>
      <geometry>
        <mesh filename="handle~handle9_convex_piece_32.obj" scale="1.0000E+00 1.0000E+00 1.0000E+00"/>
      </geometry>
      <material name=""/>
    </visual>
    <collision>
      <origin xyz="0 0 0" rpy="0 0 0"/>
      <geometry>
        <mesh filename="handle~handle9_convex_piece_32.obj" scale="1.0000E+00 1.0000E+00 1.0000E+00"/>
      </geometry>
    </collision>
  </link>
  <joint name="link_handle~handle9_convex_piece_32_joint" type="fixed">
    <origin xyz="0 0 0" rpy="0 0 0"/>
    <parent link="link_handle~handle9_convex_piece_31"/>
    <child link="link_handle~handle9_convex_piece_32"/>
  </joint>
  <link name="link_handle~handle9_convex_piece_33">
    <inertial>
      <origin xyz="0 0 0" rpy="0 0 0"/>
      <mass value="1.36E-04"/>
      <inertia ixx="6.47E-09" ixy="2.48E-08" ixz="-1.21E-08" iyy="1.31E-07" iyz="2.56E-09" izz="1.34E-07"/>
    </inertial>
    <visual>
      <origin xyz="0 0 0" rpy="0 0 0"/>
      <geometry>
        <mesh filename="handle~handle9_convex_piece_33.obj" scale="1.0000E+00 1.0000E+00 1.0000E+00"/>
      </geometry>
      <material name=""/>
    </visual>
    <collision>
      <origin xyz="0 0 0" rpy="0 0 0"/>
      <geometry>
        <mesh filename="handle~handle9_convex_piece_33.obj" scale="1.0000E+00 1.0000E+00 1.0000E+00"/>
      </geometry>
    </collision>
  </link>
  <joint name="link_handle~handle9_convex_piece_33_joint" type="fixed">
    <origin xyz="0 0 0" rpy="0 0 0"/>
    <parent link="link_handle~handle9_convex_piece_32"/>
    <child link="link_handle~handle9_convex_piece_33"/>
  </joint>
  <link name="link_handle~handle9_convex_piece_34">
    <inertial>
      <origin xyz="0 0 0" rpy="0 0 0"/>
      <mass value="1.24E-03"/>
      <inertia ixx="1.46E-07" ixy="4.99E-08" ixz="-7.10E-08" iyy="1.72E-07" iyz="5.89E-08" izz="1.22E-07"/>
    </inertial>
    <visual>
      <origin xyz="0 0 0" rpy="0 0 0"/>
      <geometry>
        <mesh filename="handle~handle9_convex_piece_34.obj" scale="1.0000E+00 1.0000E+00 1.0000E+00"/>
      </geometry>
      <material name=""/>
    </visual>
    <collision>
      <origin xyz="0 0 0" rpy="0 0 0"/>
      <geometry>
        <mesh filename="handle~handle9_convex_piece_34.obj" scale="1.0000E+00 1.0000E+00 1.0000E+00"/>
      </geometry>
    </collision>
  </link>
  <joint name="link_handle~handle9_convex_piece_34_joint" type="fixed">
    <origin xyz="0 0 0" rpy="0 0 0"/>
    <parent link="link_handle~handle9_convex_piece_33"/>
    <child link="link_handle~handle9_convex_piece_34"/>
  </joint>
  <link name="link_handle~handle9_convex_piece_35">
    <inertial>
      <origin xyz="0 0 0" rpy="0 0 0"/>
      <mass value="1.69E-04"/>
      <inertia ixx="1.62E-08" ixy="-4.46E-09" ixz="-2.24E-09" iyy="1.75E-08" iyz="-6.09E-09" izz="2.78E-08"/>
    </inertial>
    <visual>
      <origin xyz="0 0 0" rpy="0 0 0"/>
      <geometry>
        <mesh filename="handle~handle9_convex_piece_35.obj" scale="1.0000E+00 1.0000E+00 1.0000E+00"/>
      </geometry>
      <material name=""/>
    </visual>
    <collision>
      <origin xyz="0 0 0" rpy="0 0 0"/>
      <geometry>
        <mesh filename="handle~handle9_convex_piece_35.obj" scale="1.0000E+00 1.0000E+00 1.0000E+00"/>
      </geometry>
    </collision>
  </link>
  <joint name="link_handle~handle9_convex_piece_35_joint" type="fixed">
    <origin xyz="0 0 0" rpy="0 0 0"/>
    <parent link="link_handle~handle9_convex_piece_34"/>
    <child link="link_handle~handle9_convex_piece_35"/>
  </joint>
  <link name="link_handle~handle9_convex_piece_36">
    <inertial>
      <origin xyz="0 0 0" rpy="0 0 0"/>
      <mass value="4.37E-04"/>
      <inertia ixx="1.49E-08" ixy="-1.83E-08" ixz="-1.32E-08" iyy="6.02E-08" iyz="-6.14E-09" izz="6.64E-08"/>
    </inertial>
    <visual>
      <origin xyz="0 0 0" rpy="0 0 0"/>
      <geometry>
        <mesh filename="handle~handle9_convex_piece_36.obj" scale="1.0000E+00 1.0000E+00 1.0000E+00"/>
      </geometry>
      <material name=""/>
    </visual>
    <collision>
      <origin xyz="0 0 0" rpy="0 0 0"/>
      <geometry>
        <mesh filename="handle~handle9_convex_piece_36.obj" scale="1.0000E+00 1.0000E+00 1.0000E+00"/>
      </geometry>
    </collision>
  </link>
  <joint name="link_handle~handle9_convex_piece_36_joint" type="fixed">
    <origin xyz="0 0 0" rpy="0 0 0"/>
    <parent link="link_handle~handle9_convex_piece_35"/>
    <child link="link_handle~handle9_convex_piece_36"/>
  </joint>
  <link name="link_handle~handle9_convex_piece_37">
    <inertial>
      <origin xyz="0 0 0" rpy="0 0 0"/>
      <mass value="8.27E-05"/>
      <inertia ixx="1.98E-09" ixy="-2.26E-08" ixz="-1.14E-08" iyy="3.39E-07" iyz="-7.80E-10" izz="3.41E-07"/>
    </inertial>
    <visual>
      <origin xyz="0 0 0" rpy="0 0 0"/>
      <geometry>
        <mesh filename="handle~handle9_convex_piece_37.obj" scale="1.0000E+00 1.0000E+00 1.0000E+00"/>
      </geometry>
      <material name=""/>
    </visual>
    <collision>
      <origin xyz="0 0 0" rpy="0 0 0"/>
      <geometry>
        <mesh filename="handle~handle9_convex_piece_37.obj" scale="1.0000E+00 1.0000E+00 1.0000E+00"/>
      </geometry>
    </collision>
  </link>
  <joint name="link_handle~handle9_convex_piece_37_joint" type="fixed">
    <origin xyz="0 0 0" rpy="0 0 0"/>
    <parent link="link_handle~handle9_convex_piece_36"/>
    <child link="link_handle~handle9_convex_piece_37"/>
  </joint>
  <link name="link_handle~handle9_convex_piece_38">
    <inertial>
      <origin xyz="0 0 0" rpy="0 0 0"/>
      <mass value="7.99E-05"/>
      <inertia ixx="4.12E-09" ixy="-2.59E-08" ixz="-1.02E-08" iyy="2.11E-07" iyz="-1.37E-09" izz="2.14E-07"/>
    </inertial>
    <visual>
      <origin xyz="0 0 0" rpy="0 0 0"/>
      <geometry>
        <mesh filename="handle~handle9_convex_piece_38.obj" scale="1.0000E+00 1.0000E+00 1.0000E+00"/>
      </geometry>
      <material name=""/>
    </visual>
    <collision>
      <origin xyz="0 0 0" rpy="0 0 0"/>
      <geometry>
        <mesh filename="handle~handle9_convex_piece_38.obj" scale="1.0000E+00 1.0000E+00 1.0000E+00"/>
      </geometry>
    </collision>
  </link>
  <joint name="link_handle~handle9_convex_piece_38_joint" type="fixed">
    <origin xyz="0 0 0" rpy="0 0 0"/>
    <parent link="link_handle~handle9_convex_piece_37"/>
    <child link="link_handle~handle9_convex_piece_38"/>
  </joint>
  <link name="link_handle~handle9_convex_piece_39">
    <inertial>
      <origin xyz="0 0 0" rpy="0 0 0"/>
      <mass value="1.60E-04"/>
      <inertia ixx="1.03E-08" ixy="4.69E-08" ixz="-2.40E-08" iyy="2.89E-07" iyz="4.18E-09" izz="2.95E-07"/>
    </inertial>
    <visual>
      <origin xyz="0 0 0" rpy="0 0 0"/>
      <geometry>
        <mesh filename="handle~handle9_convex_piece_39.obj" scale="1.0000E+00 1.0000E+00 1.0000E+00"/>
      </geometry>
      <material name=""/>
    </visual>
    <collision>
      <origin xyz="0 0 0" rpy="0 0 0"/>
      <geometry>
        <mesh filename="handle~handle9_convex_piece_39.obj" scale="1.0000E+00 1.0000E+00 1.0000E+00"/>
      </geometry>
    </collision>
  </link>
  <joint name="link_handle~handle9_convex_piece_39_joint" type="fixed">
    <origin xyz="0 0 0" rpy="0 0 0"/>
    <parent link="link_handle~handle9_convex_piece_38"/>
    <child link="link_handle~handle9_convex_piece_39"/>
  </joint>
  <link name="link_handle~handle9_convex_piece_40">
    <inertial>
      <origin xyz="0 0 0" rpy="0 0 0"/>
      <mass value="1.46E-04"/>
      <inertia ixx="5.48E-09" ixy="1.20E-08" ixz="-7.54E-09" iyy="4.51E-08" iyz="2.35E-09" izz="4.75E-08"/>
    </inertial>
    <visual>
      <origin xyz="0 0 0" rpy="0 0 0"/>
      <geometry>
        <mesh filename="handle~handle9_convex_piece_40.obj" scale="1.0000E+00 1.0000E+00 1.0000E+00"/>
      </geometry>
      <material name=""/>
    </visual>
    <collision>
      <origin xyz="0 0 0" rpy="0 0 0"/>
      <geometry>
        <mesh filename="handle~handle9_convex_piece_40.obj" scale="1.0000E+00 1.0000E+00 1.0000E+00"/>
      </geometry>
    </collision>
  </link>
  <joint name="link_handle~handle9_convex_piece_40_joint" type="fixed">
    <origin xyz="0 0 0" rpy="0 0 0"/>
    <parent link="link_handle~handle9_convex_piece_39"/>
    <child link="link_handle~handle9_convex_piece_40"/>
  </joint>
  <link name="link_handle~handle9_convex_piece_41">
    <inertial>
      <origin xyz="0 0 0" rpy="0 0 0"/>
      <mass value="6.87E-04"/>
      <inertia ixx="1.81E-08" ixy="1.19E-07" ixz="-1.31E-07" iyy="2.73E-06" iyz="7.14E-09" izz="2.73E-06"/>
    </inertial>
    <visual>
      <origin xyz="0 0 0" rpy="0 0 0"/>
      <geometry>
        <mesh filename="handle~handle9_convex_piece_41.obj" scale="1.0000E+00 1.0000E+00 1.0000E+00"/>
      </geometry>
      <material name=""/>
    </visual>
    <collision>
      <origin xyz="0 0 0" rpy="0 0 0"/>
      <geometry>
        <mesh filename="handle~handle9_convex_piece_41.obj" scale="1.0000E+00 1.0000E+00 1.0000E+00"/>
      </geometry>
    </collision>
  </link>
  <joint name="link_handle~handle9_convex_piece_41_joint" type="fixed">
    <origin xyz="0 0 0" rpy="0 0 0"/>
    <parent link="link_handle~handle9_convex_piece_40"/>
    <child link="link_handle~handle9_convex_piece_41"/>
  </joint>
  <link name="link_handle~handle9_convex_piece_42">
    <inertial>
      <origin xyz="0 0 0" rpy="0 0 0"/>
      <mass value="3.02E-04"/>
      <inertia ixx="7.59E-08" ixy="1.97E-08" ixz="-1.23E-07" iyy="2.85E-07" iyz="1.18E-08" izz="2.14E-07"/>
    </inertial>
    <visual>
      <origin xyz="0 0 0" rpy="0 0 0"/>
      <geometry>
        <mesh filename="handle~handle9_convex_piece_42.obj" scale="1.0000E+00 1.0000E+00 1.0000E+00"/>
      </geometry>
      <material name=""/>
    </visual>
    <collision>
      <origin xyz="0 0 0" rpy="0 0 0"/>
      <geometry>
        <mesh filename="handle~handle9_convex_piece_42.obj" scale="1.0000E+00 1.0000E+00 1.0000E+00"/>
      </geometry>
    </collision>
  </link>
  <joint name="link_handle~handle9_convex_piece_42_joint" type="fixed">
    <origin xyz="0 0 0" rpy="0 0 0"/>
    <parent link="link_handle~handle9_convex_piece_41"/>
    <child link="link_handle~handle9_convex_piece_42"/>
  </joint>
  <link name="link_handle~handle9_convex_piece_43">
    <inertial>
      <origin xyz="0 0 0" rpy="0 0 0"/>
      <mass value="4.19E-05"/>
      <inertia ixx="3.05E-08" ixy="9.54E-09" ixz="-3.51E-08" iyy="7.27E-08" iyz="7.64E-09" izz="4.65E-08"/>
    </inertial>
    <visual>
      <origin xyz="0 0 0" rpy="0 0 0"/>
      <geometry>
        <mesh filename="handle~handle9_convex_piece_43.obj" scale="1.0000E+00 1.0000E+00 1.0000E+00"/>
      </geometry>
      <material name=""/>
    </visual>
    <collision>
      <origin xyz="0 0 0" rpy="0 0 0"/>
      <geometry>
        <mesh filename="handle~handle9_convex_piece_43.obj" scale="1.0000E+00 1.0000E+00 1.0000E+00"/>
      </geometry>
    </collision>
  </link>
  <joint name="link_handle~handle9_convex_piece_43_joint" type="fixed">
    <origin xyz="0 0 0" rpy="0 0 0"/>
    <parent link="link_handle~handle9_convex_piece_42"/>
    <child link="link_handle~handle9_convex_piece_43"/>
  </joint>
  <link name="link_handle~handle9_convex_piece_44">
    <inertial>
      <origin xyz="0 0 0" rpy="0 0 0"/>
      <mass value="1.75E-03"/>
      <inertia ixx="2.36E-07" ixy="1.32E-07" ixz="2.51E-07" iyy="5.95E-07" iyz="-8.61E-08" izz="4.83E-07"/>
    </inertial>
    <visual>
      <origin xyz="0 0 0" rpy="0 0 0"/>
      <geometry>
        <mesh filename="handle~handle9_convex_piece_44.obj" scale="1.0000E+00 1.0000E+00 1.0000E+00"/>
      </geometry>
      <material name=""/>
    </visual>
    <collision>
      <origin xyz="0 0 0" rpy="0 0 0"/>
      <geometry>
        <mesh filename="handle~handle9_convex_piece_44.obj" scale="1.0000E+00 1.0000E+00 1.0000E+00"/>
      </geometry>
    </collision>
  </link>
  <joint name="link_handle~handle9_convex_piece_44_joint" type="fixed">
    <origin xyz="0 0 0" rpy="0 0 0"/>
    <parent link="link_handle~handle9_convex_piece_43"/>
    <child link="link_handle~handle9_convex_piece_44"/>
  </joint>
  <link name="link_handle~handle9_convex_piece_45">
    <inertial>
      <origin xyz="0 0 0" rpy="0 0 0"/>
      <mass value="1.14E-03"/>
      <inertia ixx="5.04E-07" ixy="-3.11E-07" ixz="-7.15E-07" iyy="1.72E-06" iyz="-1.77E-07" izz="1.37E-06"/>
    </inertial>
    <visual>
      <origin xyz="0 0 0" rpy="0 0 0"/>
      <geometry>
        <mesh filename="handle~handle9_convex_piece_45.obj" scale="1.0000E+00 1.0000E+00 1.0000E+00"/>
      </geometry>
      <material name=""/>
    </visual>
    <collision>
      <origin xyz="0 0 0" rpy="0 0 0"/>
      <geometry>
        <mesh filename="handle~handle9_convex_piece_45.obj" scale="1.0000E+00 1.0000E+00 1.0000E+00"/>
      </geometry>
    </collision>
  </link>
  <joint name="link_handle~handle9_convex_piece_45_joint" type="fixed">
    <origin xyz="0 0 0" rpy="0 0 0"/>
    <parent link="link_handle~handle9_convex_piece_44"/>
    <child link="link_handle~handle9_convex_piece_45"/>
  </joint>
  <link name="link_handle~handle9_convex_piece_46">
    <inertial>
      <origin xyz="0 0 0" rpy="0 0 0"/>
      <mass value="1.04E-03"/>
      <inertia ixx="3.66E-08" ixy="4.78E-08" ixz="3.91E-08" iyy="2.03E-07" iyz="-1.46E-08" izz="2.14E-07"/>
    </inertial>
    <visual>
      <origin xyz="0 0 0" rpy="0 0 0"/>
      <geometry>
        <mesh filename="handle~handle9_convex_piece_46.obj" scale="1.0000E+00 1.0000E+00 1.0000E+00"/>
      </geometry>
      <material name=""/>
    </visual>
    <collision>
      <origin xyz="0 0 0" rpy="0 0 0"/>
      <geometry>
        <mesh filename="handle~handle9_convex_piece_46.obj" scale="1.0000E+00 1.0000E+00 1.0000E+00"/>
      </geometry>
    </collision>
  </link>
  <joint name="link_handle~handle9_convex_piece_46_joint" type="fixed">
    <origin xyz="0 0 0" rpy="0 0 0"/>
    <parent link="link_handle~handle9_convex_piece_45"/>
    <child link="link_handle~handle9_convex_piece_46"/>
  </joint>
  <link name="link_handle~handle9_convex_piece_47">
    <inertial>
      <origin xyz="0 0 0" rpy="0 0 0"/>
      <mass value="1.02E-03"/>
      <inertia ixx="2.81E-08" ixy="-9.16E-08" ixz="-1.05E-07" iyy="1.31E-06" iyz="-1.02E-08" izz="1.31E-06"/>
    </inertial>
    <visual>
      <origin xyz="0 0 0" rpy="0 0 0"/>
      <geometry>
        <mesh filename="handle~handle9_convex_piece_47.obj" scale="1.0000E+00 1.0000E+00 1.0000E+00"/>
      </geometry>
      <material name=""/>
    </visual>
    <collision>
      <origin xyz="0 0 0" rpy="0 0 0"/>
      <geometry>
        <mesh filename="handle~handle9_convex_piece_47.obj" scale="1.0000E+00 1.0000E+00 1.0000E+00"/>
      </geometry>
    </collision>
  </link>
  <joint name="link_handle~handle9_convex_piece_47_joint" type="fixed">
    <origin xyz="0 0 0" rpy="0 0 0"/>
    <parent link="link_handle~handle9_convex_piece_46"/>
    <child link="link_handle~handle9_convex_piece_47"/>
  </joint>
  <link name="link_handle~handle9_convex_piece_48">
    <inertial>
      <origin xyz="0 0 0" rpy="0 0 0"/>
      <mass value="2.59E-04"/>
      <inertia ixx="1.71E-08" ixy="-1.02E-07" ixz="-5.98E-08" iyy="8.84E-07" iyz="-7.39E-09" izz="8.92E-07"/>
    </inertial>
    <visual>
      <origin xyz="0 0 0" rpy="0 0 0"/>
      <geometry>
        <mesh filename="handle~handle9_convex_piece_48.obj" scale="1.0000E+00 1.0000E+00 1.0000E+00"/>
      </geometry>
      <material name=""/>
    </visual>
    <collision>
      <origin xyz="0 0 0" rpy="0 0 0"/>
      <geometry>
        <mesh filename="handle~handle9_convex_piece_48.obj" scale="1.0000E+00 1.0000E+00 1.0000E+00"/>
      </geometry>
    </collision>
  </link>
  <joint name="link_handle~handle9_convex_piece_48_joint" type="fixed">
    <origin xyz="0 0 0" rpy="0 0 0"/>
    <parent link="link_handle~handle9_convex_piece_47"/>
    <child link="link_handle~handle9_convex_piece_48"/>
  </joint>
  <link name="link_handle~handle9_convex_piece_49">
    <inertial>
      <origin xyz="0 0 0" rpy="0 0 0"/>
      <mass value="1.62E-03"/>
      <inertia ixx="8.37E-08" ixy="2.45E-09" ixz="-1.36E-07" iyy="1.11E-06" iyz="2.73E-10" izz="1.14E-06"/>
    </inertial>
    <visual>
      <origin xyz="0 0 0" rpy="0 0 0"/>
      <geometry>
        <mesh filename="handle~handle9_convex_piece_49.obj" scale="1.0000E+00 1.0000E+00 1.0000E+00"/>
      </geometry>
      <material name=""/>
    </visual>
    <collision>
      <origin xyz="0 0 0" rpy="0 0 0"/>
      <geometry>
        <mesh filename="handle~handle9_convex_piece_49.obj" scale="1.0000E+00 1.0000E+00 1.0000E+00"/>
      </geometry>
    </collision>
  </link>
  <joint name="link_handle~handle9_convex_piece_49_joint" type="fixed">
    <origin xyz="0 0 0" rpy="0 0 0"/>
    <parent link="link_handle~handle9_convex_piece_48"/>
    <child link="link_handle~handle9_convex_piece_49"/>
  </joint>
  <link name="link_handle~handle9_convex_piece_50">
    <inertial>
      <origin xyz="0 0 0" rpy="0 0 0"/>
      <mass value="2.92E-04"/>
      <inertia ixx="7.21E-08" ixy="-2.46E-08" ixz="-1.17E-07" iyy="2.72E-07" iyz="-1.44E-08" izz="2.07E-07"/>
    </inertial>
    <visual>
      <origin xyz="0 0 0" rpy="0 0 0"/>
      <geometry>
        <mesh filename="handle~handle9_convex_piece_50.obj" scale="1.0000E+00 1.0000E+00 1.0000E+00"/>
      </geometry>
      <material name=""/>
    </visual>
    <collision>
      <origin xyz="0 0 0" rpy="0 0 0"/>
      <geometry>
        <mesh filename="handle~handle9_convex_piece_50.obj" scale="1.0000E+00 1.0000E+00 1.0000E+00"/>
      </geometry>
    </collision>
  </link>
  <joint name="link_handle~handle9_convex_piece_50_joint" type="fixed">
    <origin xyz="0 0 0" rpy="0 0 0"/>
    <parent link="link_handle~handle9_convex_piece_49"/>
    <child link="link_handle~handle9_convex_piece_50"/>
  </joint>
  <link name="link_handle~handle9_convex_piece_51">
    <inertial>
      <origin xyz="0 0 0" rpy="0 0 0"/>
      <mass value="4.64E-04"/>
      <inertia ixx="1.52E-08" ixy="-1.63E-08" ixz="-1.52E-07" iyy="2.82E-06" iyz="-1.07E-09" izz="2.82E-06"/>
    </inertial>
    <visual>
      <origin xyz="0 0 0" rpy="0 0 0"/>
      <geometry>
        <mesh filename="handle~handle9_convex_piece_51.obj" scale="1.0000E+00 1.0000E+00 1.0000E+00"/>
      </geometry>
      <material name=""/>
    </visual>
    <collision>
      <origin xyz="0 0 0" rpy="0 0 0"/>
      <geometry>
        <mesh filename="handle~handle9_convex_piece_51.obj" scale="1.0000E+00 1.0000E+00 1.0000E+00"/>
      </geometry>
    </collision>
  </link>
  <joint name="link_handle~handle9_convex_piece_51_joint" type="fixed">
    <origin xyz="0 0 0" rpy="0 0 0"/>
    <parent link="link_handle~handle9_convex_piece_50"/>
    <child link="link_handle~handle9_convex_piece_51"/>
  </joint>
  <link name="link_handle~handle9_convex_piece_52">
    <inertial>
      <origin xyz="0 0 0" rpy="0 0 0"/>
      <mass value="1.82E-04"/>
      <inertia ixx="7.00E-08" ixy="2.41E-08" ixz="-9.36E-08" iyy="2.65E-07" iyz="1.15E-08" izz="2.00E-07"/>
    </inertial>
    <visual>
      <origin xyz="0 0 0" rpy="0 0 0"/>
      <geometry>
        <mesh filename="handle~handle9_convex_piece_52.obj" scale="1.0000E+00 1.0000E+00 1.0000E+00"/>
      </geometry>
      <material name=""/>
    </visual>
    <collision>
      <origin xyz="0 0 0" rpy="0 0 0"/>
      <geometry>
        <mesh filename="handle~handle9_convex_piece_52.obj" scale="1.0000E+00 1.0000E+00 1.0000E+00"/>
      </geometry>
    </collision>
  </link>
  <joint name="link_handle~handle9_convex_piece_52_joint" type="fixed">
    <origin xyz="0 0 0" rpy="0 0 0"/>
    <parent link="link_handle~handle9_convex_piece_51"/>
    <child link="link_handle~handle9_convex_piece_52"/>
  </joint>
  <link name="link_handle~handle9_convex_piece_53">
    <inertial>
      <origin xyz="0 0 0" rpy="0 0 0"/>
      <mass value="2.14E-04"/>
      <inertia ixx="2.05E-07" ixy="2.10E-08" ixz="-2.44E-07" iyy="5.00E-07" iyz="1.75E-08" izz="2.98E-07"/>
    </inertial>
    <visual>
      <origin xyz="0 0 0" rpy="0 0 0"/>
      <geometry>
        <mesh filename="handle~handle9_convex_piece_53.obj" scale="1.0000E+00 1.0000E+00 1.0000E+00"/>
      </geometry>
      <material name=""/>
    </visual>
    <collision>
      <origin xyz="0 0 0" rpy="0 0 0"/>
      <geometry>
        <mesh filename="handle~handle9_convex_piece_53.obj" scale="1.0000E+00 1.0000E+00 1.0000E+00"/>
      </geometry>
    </collision>
  </link>
  <joint name="link_handle~handle9_convex_piece_53_joint" type="fixed">
    <origin xyz="0 0 0" rpy="0 0 0"/>
    <parent link="link_handle~handle9_convex_piece_52"/>
    <child link="link_handle~handle9_convex_piece_53"/>
  </joint>
  <link name="link_handle~handle9_convex_piece_54">
    <inertial>
      <origin xyz="0 0 0" rpy="0 0 0"/>
      <mass value="3.63E-04"/>
      <inertia ixx="2.85E-07" ixy="2.64E-08" ixz="-2.86E-07" iyy="5.80E-07" iyz="2.55E-08" izz="3.00E-07"/>
    </inertial>
    <visual>
      <origin xyz="0 0 0" rpy="0 0 0"/>
      <geometry>
        <mesh filename="handle~handle9_convex_piece_54.obj" scale="1.0000E+00 1.0000E+00 1.0000E+00"/>
      </geometry>
      <material name=""/>
    </visual>
    <collision>
      <origin xyz="0 0 0" rpy="0 0 0"/>
      <geometry>
        <mesh filename="handle~handle9_convex_piece_54.obj" scale="1.0000E+00 1.0000E+00 1.0000E+00"/>
      </geometry>
    </collision>
  </link>
  <joint name="link_handle~handle9_convex_piece_54_joint" type="fixed">
    <origin xyz="0 0 0" rpy="0 0 0"/>
    <parent link="link_handle~handle9_convex_piece_53"/>
    <child link="link_handle~handle9_convex_piece_54"/>
  </joint>
  <link name="link_handle~handle9_convex_piece_55">
    <inertial>
      <origin xyz="0 0 0" rpy="0 0 0"/>
      <mass value="2.66E-04"/>
      <inertia ixx="2.58E-07" ixy="4.80E-08" ixz="-2.73E-07" iyy="5.54E-07" iyz="4.32E-08" izz="3.12E-07"/>
    </inertial>
    <visual>
      <origin xyz="0 0 0" rpy="0 0 0"/>
      <geometry>
        <mesh filename="handle~handle9_convex_piece_55.obj" scale="1.0000E+00 1.0000E+00 1.0000E+00"/>
      </geometry>
      <material name=""/>
    </visual>
    <collision>
      <origin xyz="0 0 0" rpy="0 0 0"/>
      <geometry>
        <mesh filename="handle~handle9_convex_piece_55.obj" scale="1.0000E+00 1.0000E+00 1.0000E+00"/>
      </geometry>
    </collision>
  </link>
  <joint name="link_handle~handle9_convex_piece_55_joint" type="fixed">
    <origin xyz="0 0 0" rpy="0 0 0"/>
    <parent link="link_handle~handle9_convex_piece_54"/>
    <child link="link_handle~handle9_convex_piece_55"/>
  </joint>
  <link name="link_handle~handle9_convex_piece_56">
    <inertial>
      <origin xyz="0 0 0" rpy="0 0 0"/>
      <mass value="4.65E-03"/>
      <inertia ixx="5.23E-07" ixy="-3.92E-07" ixz="5.22E-07" iyy="1.78E-06" iyz="1.96E-07" izz="1.62E-06"/>
    </inertial>
    <visual>
      <origin xyz="0 0 0" rpy="0 0 0"/>
      <geometry>
        <mesh filename="handle~handle9_convex_piece_56.obj" scale="1.0000E+00 1.0000E+00 1.0000E+00"/>
      </geometry>
      <material name=""/>
    </visual>
    <collision>
      <origin xyz="0 0 0" rpy="0 0 0"/>
      <geometry>
        <mesh filename="handle~handle9_convex_piece_56.obj" scale="1.0000E+00 1.0000E+00 1.0000E+00"/>
      </geometry>
    </collision>
  </link>
  <joint name="link_handle~handle9_convex_piece_56_joint" type="fixed">
    <origin xyz="0 0 0" rpy="0 0 0"/>
    <parent link="link_handle~handle9_convex_piece_55"/>
    <child link="link_handle~handle9_convex_piece_56"/>
  </joint>
  <link name="link_handle~handle9_convex_piece_57">
    <inertial>
      <origin xyz="0 0 0" rpy="0 0 0"/>
      <mass value="7.59E-04"/>
      <inertia ixx="8.76E-08" ixy="2.43E-07" ixz="-4.07E-07" iyy="3.03E-06" iyz="3.38E-08" izz="2.99E-06"/>
    </inertial>
    <visual>
      <origin xyz="0 0 0" rpy="0 0 0"/>
      <geometry>
        <mesh filename="handle~handle9_convex_piece_57.obj" scale="1.0000E+00 1.0000E+00 1.0000E+00"/>
      </geometry>
      <material name=""/>
    </visual>
    <collision>
      <origin xyz="0 0 0" rpy="0 0 0"/>
      <geometry>
        <mesh filename="handle~handle9_convex_piece_57.obj" scale="1.0000E+00 1.0000E+00 1.0000E+00"/>
      </geometry>
    </collision>
  </link>
  <joint name="link_handle~handle9_convex_piece_57_joint" type="fixed">
    <origin xyz="0 0 0" rpy="0 0 0"/>
    <parent link="link_handle~handle9_convex_piece_56"/>
    <child link="link_handle~handle9_convex_piece_57"/>
  </joint>
  <link name="link_handle~handle9_convex_piece_58">
    <inertial>
      <origin xyz="0 0 0" rpy="0 0 0"/>
      <mass value="3.18E-03"/>
      <inertia ixx="3.87E-07" ixy="-7.10E-08" ixz="-1.73E-07" iyy="5.83E-07" iyz="-1.25E-07" izz="3.73E-07"/>
    </inertial>
    <visual>
      <origin xyz="0 0 0" rpy="0 0 0"/>
      <geometry>
        <mesh filename="handle~handle9_convex_piece_58.obj" scale="1.0000E+00 1.0000E+00 1.0000E+00"/>
      </geometry>
      <material name=""/>
    </visual>
    <collision>
      <origin xyz="0 0 0" rpy="0 0 0"/>
      <geometry>
        <mesh filename="handle~handle9_convex_piece_58.obj" scale="1.0000E+00 1.0000E+00 1.0000E+00"/>
      </geometry>
    </collision>
  </link>
  <joint name="link_handle~handle9_convex_piece_58_joint" type="fixed">
    <origin xyz="0 0 0" rpy="0 0 0"/>
    <parent link="link_handle~handle9_convex_piece_57"/>
    <child link="link_handle~handle9_convex_piece_58"/>
  </joint>
  <link name="link_handle~handle9_convex_piece_59">
    <inertial>
      <origin xyz="0 0 0" rpy="0 0 0"/>
      <mass value="1.89E-04"/>
      <inertia ixx="3.51E-09" ixy="-3.08E-09" ixz="1.99E-08" iyy="2.07E-07" iyz="1.18E-10" izz="2.06E-07"/>
    </inertial>
    <visual>
      <origin xyz="0 0 0" rpy="0 0 0"/>
      <geometry>
        <mesh filename="handle~handle9_convex_piece_59.obj" scale="1.0000E+00 1.0000E+00 1.0000E+00"/>
      </geometry>
      <material name=""/>
    </visual>
    <collision>
      <origin xyz="0 0 0" rpy="0 0 0"/>
      <geometry>
        <mesh filename="handle~handle9_convex_piece_59.obj" scale="1.0000E+00 1.0000E+00 1.0000E+00"/>
      </geometry>
    </collision>
  </link>
  <joint name="link_handle~handle9_convex_piece_59_joint" type="fixed">
    <origin xyz="0 0 0" rpy="0 0 0"/>
    <parent link="link_handle~handle9_convex_piece_58"/>
    <child link="link_handle~handle9_convex_piece_59"/>
  </joint>
  <link name="link_handle~handle9_convex_piece_60">
    <inertial>
      <origin xyz="0 0 0" rpy="0 0 0"/>
      <mass value="4.02E-04"/>
      <inertia ixx="2.12E-07" ixy="-1.26E-08" ixz="-2.24E-07" iyy="4.51E-07" iyz="-1.13E-08" izz="2.48E-07"/>
    </inertial>
    <visual>
      <origin xyz="0 0 0" rpy="0 0 0"/>
      <geometry>
        <mesh filename="handle~handle9_convex_piece_60.obj" scale="1.0000E+00 1.0000E+00 1.0000E+00"/>
      </geometry>
      <material name=""/>
    </visual>
    <collision>
      <origin xyz="0 0 0" rpy="0 0 0"/>
      <geometry>
        <mesh filename="handle~handle9_convex_piece_60.obj" scale="1.0000E+00 1.0000E+00 1.0000E+00"/>
      </geometry>
    </collision>
  </link>
  <joint name="link_handle~handle9_convex_piece_60_joint" type="fixed">
    <origin xyz="0 0 0" rpy="0 0 0"/>
    <parent link="link_handle~handle9_convex_piece_59"/>
    <child link="link_handle~handle9_convex_piece_60"/>
  </joint>
  <link name="link_handle~handle9_convex_piece_61">
    <inertial>
      <origin xyz="0 0 0" rpy="0 0 0"/>
      <mass value="1.07E-04"/>
      <inertia ixx="5.36E-09" ixy="2.99E-08" ixz="-1.16E-08" iyy="2.36E-07" iyz="1.75E-09" izz="2.40E-07"/>
    </inertial>
    <visual>
      <origin xyz="0 0 0" rpy="0 0 0"/>
      <geometry>
        <mesh filename="handle~handle9_convex_piece_61.obj" scale="1.0000E+00 1.0000E+00 1.0000E+00"/>
      </geometry>
      <material name=""/>
    </visual>
    <collision>
      <origin xyz="0 0 0" rpy="0 0 0"/>
      <geometry>
        <mesh filename="handle~handle9_convex_piece_61.obj" scale="1.0000E+00 1.0000E+00 1.0000E+00"/>
      </geometry>
    </collision>
  </link>
  <joint name="link_handle~handle9_convex_piece_61_joint" type="fixed">
    <origin xyz="0 0 0" rpy="0 0 0"/>
    <parent link="link_handle~handle9_convex_piece_60"/>
    <child link="link_handle~handle9_convex_piece_61"/>
  </joint>
  <link name="link_handle~handle9_convex_piece_62">
    <inertial>
      <origin xyz="0 0 0" rpy="0 0 0"/>
      <mass value="2.34E-04"/>
      <inertia ixx="1.57E-07" ixy="-2.27E-08" ixz="-1.72E-07" iyy="3.49E-07" iyz="-2.01E-08" izz="1.99E-07"/>
    </inertial>
    <visual>
      <origin xyz="0 0 0" rpy="0 0 0"/>
      <geometry>
        <mesh filename="handle~handle9_convex_piece_62.obj" scale="1.0000E+00 1.0000E+00 1.0000E+00"/>
      </geometry>
      <material name=""/>
    </visual>
    <collision>
      <origin xyz="0 0 0" rpy="0 0 0"/>
      <geometry>
        <mesh filename="handle~handle9_convex_piece_62.obj" scale="1.0000E+00 1.0000E+00 1.0000E+00"/>
      </geometry>
    </collision>
  </link>
  <joint name="link_handle~handle9_convex_piece_62_joint" type="fixed">
    <origin xyz="0 0 0" rpy="0 0 0"/>
    <parent link="link_handle~handle9_convex_piece_61"/>
    <child link="link_handle~handle9_convex_piece_62"/>
  </joint>
  <link name="link_handle~handle9_convex_piece_63">
    <inertial>
      <origin xyz="0 0 0" rpy="0 0 0"/>
      <mass value="5.14E-03"/>
      <inertia ixx="7.34E-07" ixy="-8.45E-10" ixz="-1.84E-06" iyy="7.16E-06" iyz="-1.14E-10" izz="6.74E-06"/>
    </inertial>
    <visual>
      <origin xyz="0 0 0" rpy="0 0 0"/>
      <geometry>
        <mesh filename="handle~handle9_convex_piece_63.obj" scale="1.0000E+00 1.0000E+00 1.0000E+00"/>
      </geometry>
      <material name=""/>
    </visual>
    <collision>
      <origin xyz="0 0 0" rpy="0 0 0"/>
      <geometry>
        <mesh filename="handle~handle9_convex_piece_63.obj" scale="1.0000E+00 1.0000E+00 1.0000E+00"/>
      </geometry>
    </collision>
  </link>
  <joint name="link_handle~handle9_convex_piece_63_joint" type="fixed">
    <origin xyz="0 0 0" rpy="0 0 0"/>
    <parent link="link_handle~handle9_convex_piece_62"/>
    <child link="link_handle~handle9_convex_piece_63"/>
  </joint>
</robot>
